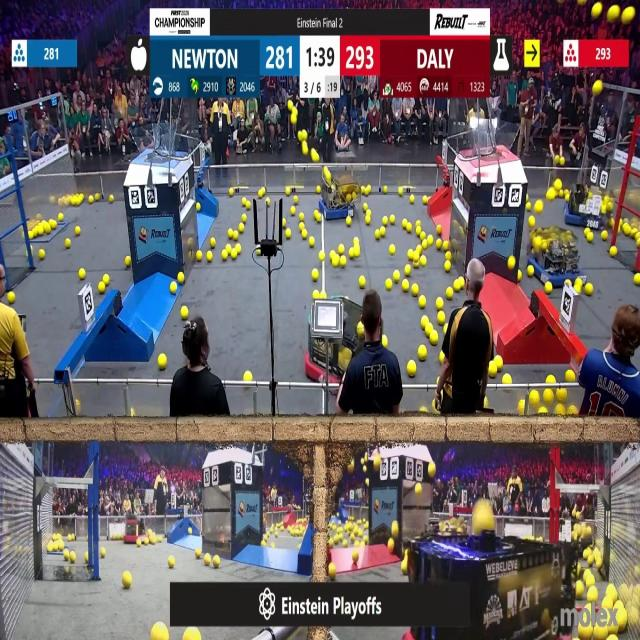ball_airborne: (475, 502, 494, 532), (622, 7, 634, 22), (608, 6, 618, 21), (593, 82, 603, 96), (593, 3, 602, 17), (374, 456, 381, 471), (428, 462, 435, 477), (311, 148, 319, 160), (302, 142, 309, 154), (323, 169, 330, 180), (297, 131, 304, 142), (290, 112, 296, 124), (348, 463, 355, 473), (416, 484, 422, 495), (288, 101, 293, 112), (363, 480, 369, 488), (577, 0, 584, 6), (362, 465, 367, 472), (360, 458, 364, 465)
ball_ground: (152, 624, 167, 640), (574, 582, 584, 600), (408, 360, 418, 375), (122, 570, 130, 588), (588, 588, 598, 602), (159, 354, 168, 369), (543, 389, 553, 402), (419, 346, 427, 361), (391, 522, 399, 537), (557, 388, 566, 401), (489, 362, 497, 376), (429, 333, 437, 346), (438, 312, 446, 325), (530, 391, 538, 404), (328, 563, 335, 577), (400, 561, 407, 575), (357, 325, 364, 339), (586, 283, 594, 295), (544, 282, 552, 294), (534, 202, 542, 214), (546, 188, 554, 200), (457, 278, 465, 290), (419, 295, 426, 308), (181, 307, 188, 320), (507, 259, 514, 272), (388, 538, 395, 551), (568, 408, 577, 418), (556, 407, 565, 417), (412, 284, 420, 295), (330, 256, 338, 267), (204, 555, 212, 566), (358, 276, 365, 288), (401, 280, 408, 292), (169, 556, 176, 568), (447, 287, 454, 299), (213, 556, 220, 568), (495, 356, 502, 368), (243, 369, 250, 381), (403, 266, 410, 278), (519, 399, 525, 413), (502, 374, 510, 384), (566, 372, 574, 382), (545, 376, 553, 386), (555, 179, 563, 189), (386, 279, 393, 290), (171, 282, 178, 293), (99, 282, 106, 293), (624, 224, 631, 235), (8, 291, 14, 303), (313, 270, 319, 282), (634, 274, 640, 286), (382, 337, 388, 349), (436, 297, 442, 309), (422, 316, 428, 328), (427, 234, 433, 246), (78, 270, 85, 280), (445, 263, 452, 273), (340, 256, 347, 266), (123, 256, 130, 266), (315, 212, 322, 222), (348, 247, 355, 257), (421, 239, 428, 249), (574, 278, 581, 288), (178, 273, 184, 284), (104, 275, 110, 286), (529, 216, 535, 227), (388, 216, 396, 224), (444, 241, 451, 250), (257, 188, 264, 197), (363, 215, 370, 224), (302, 231, 309, 240), (446, 251, 453, 260), (602, 232, 608, 242), (610, 247, 616, 257), (588, 234, 594, 244), (435, 240, 441, 250), (393, 272, 399, 282), (207, 252, 213, 262), (420, 256, 426, 266), (227, 230, 233, 240), (195, 550, 201, 560), (195, 250, 201, 260), (354, 247, 360, 257), (286, 230, 292, 240), (517, 272, 523, 282), (528, 268, 534, 278), (484, 397, 490, 407), (70, 553, 76, 563), (64, 551, 70, 561), (414, 260, 420, 270), (558, 189, 564, 199), (339, 246, 346, 254), (538, 408, 545, 416), (441, 352, 446, 363), (210, 239, 216, 248), (314, 290, 320, 299), (435, 224, 441, 233), (221, 251, 227, 260), (309, 238, 315, 247), (410, 194, 416, 203), (526, 203, 532, 212), (420, 231, 426, 240), (50, 219, 56, 228), (365, 185, 371, 194), (425, 326, 431, 335), (75, 225, 80, 235), (39, 250, 44, 260), (387, 242, 392, 252), (409, 250, 414, 260), (319, 251, 324, 261), (383, 215, 388, 225), (99, 549, 104, 559), (233, 248, 238, 258), (408, 222, 413, 232), (401, 218, 406, 228), (381, 226, 386, 236), (65, 240, 71, 248), (298, 222, 304, 230), (298, 212, 304, 220), (194, 204, 200, 212), (227, 188, 233, 196), (416, 245, 422, 253), (246, 202, 252, 210), (95, 192, 101, 200), (343, 539, 349, 547), (29, 232, 35, 240), (284, 187, 290, 195), (225, 244, 231, 252), (347, 217, 352, 226), (376, 231, 381, 240), (609, 218, 614, 227), (353, 552, 358, 561), (108, 194, 114, 201), (397, 188, 403, 195), (365, 210, 371, 217), (259, 539, 265, 546), (159, 535, 165, 542), (240, 222, 244, 232), (234, 232, 239, 240), (416, 226, 421, 234), (242, 200, 247, 208), (362, 204, 367, 212), (90, 197, 95, 205), (137, 539, 142, 547), (363, 536, 368, 544), (282, 218, 286, 227), (84, 553, 88, 562), (293, 197, 297, 206), (290, 208, 295, 215), (423, 198, 428, 205), (383, 186, 388, 193), (131, 411, 136, 418), (316, 185, 321, 192), (60, 213, 64, 221), (321, 292, 325, 300), (636, 234, 640, 242), (187, 528, 192, 534), (421, 408, 426, 414), (256, 249, 260, 256), (242, 215, 246, 222), (354, 238, 358, 245), (417, 220, 421, 227), (272, 542, 277, 547), (268, 201, 272, 207), (144, 538, 148, 544)
goal: (465, 121, 521, 160), (132, 129, 188, 161)
robot_blue: (528, 227, 584, 286), (565, 185, 613, 231), (318, 172, 360, 221)
robot_red: (305, 299, 381, 383), (124, 518, 146, 542)
